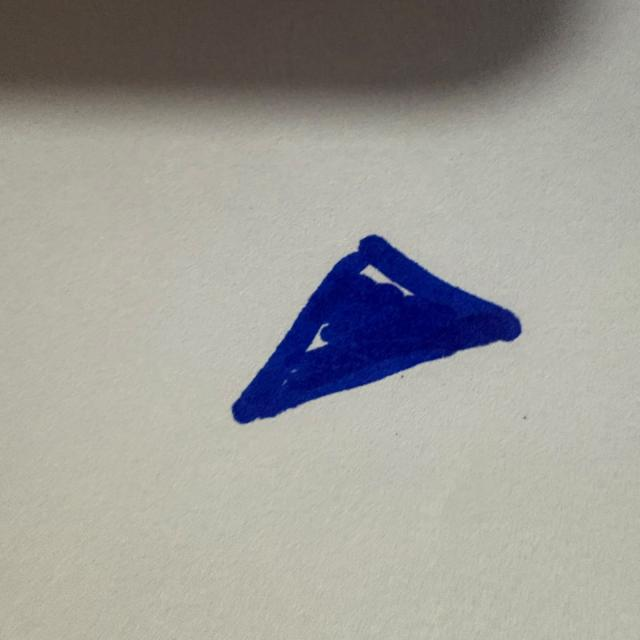Triangle: (232, 235, 521, 423)
